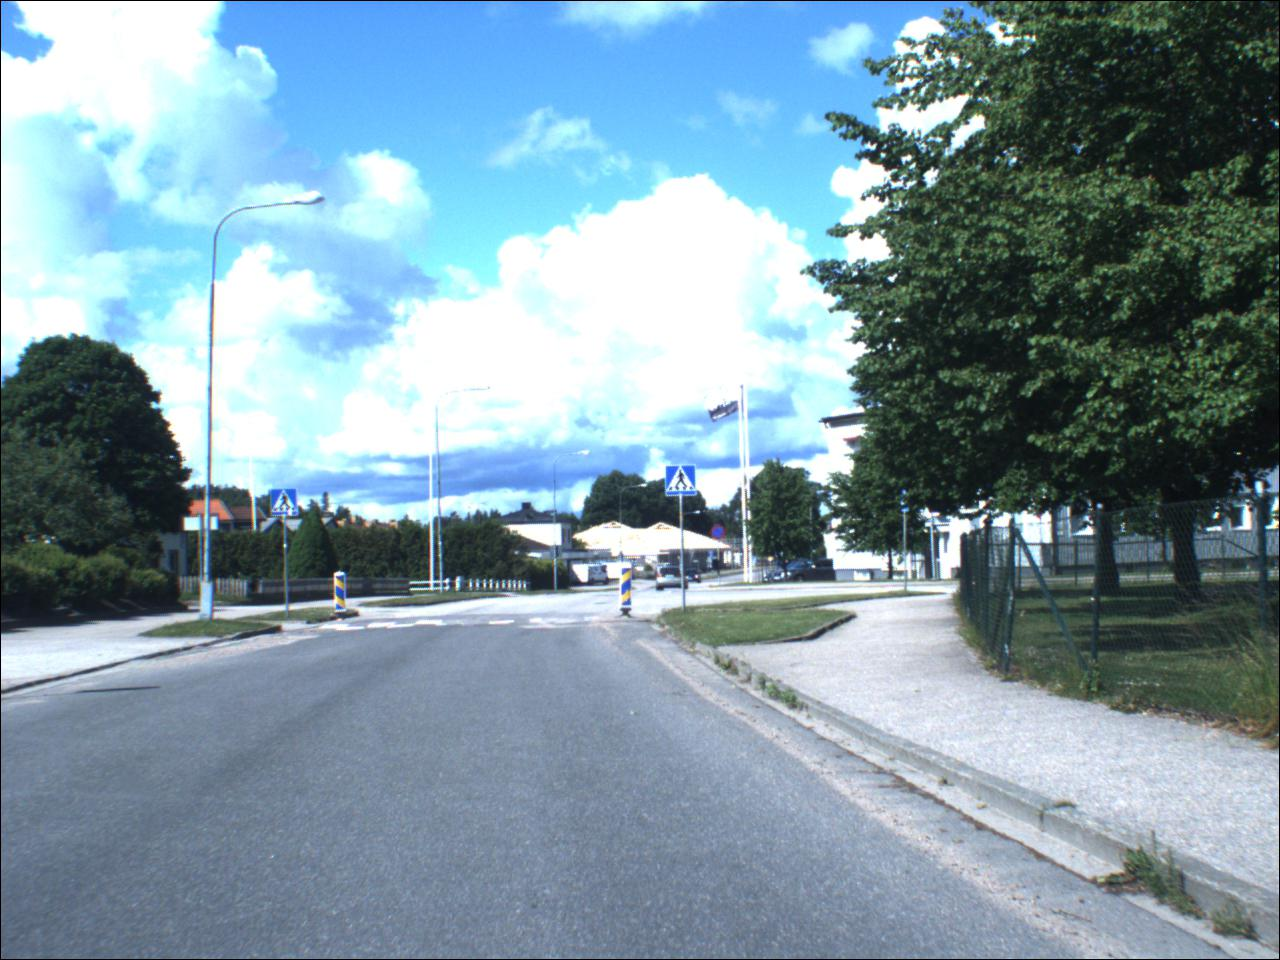NO_PARKING: (712, 526, 729, 543)
PEDESTRIAN_CROSSING: (668, 467, 701, 499), (271, 491, 301, 519)
